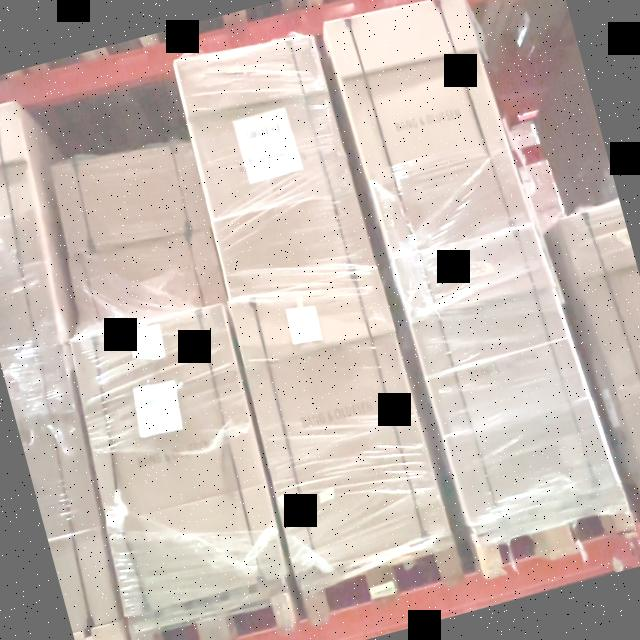box: (393, 224, 616, 523), (228, 270, 446, 573), (72, 306, 284, 614), (174, 32, 375, 299), (325, 0, 528, 255), (51, 147, 206, 252)
